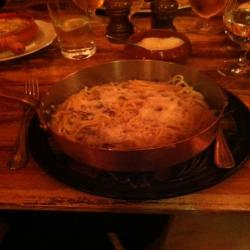carbonara: (37, 70, 222, 163)
